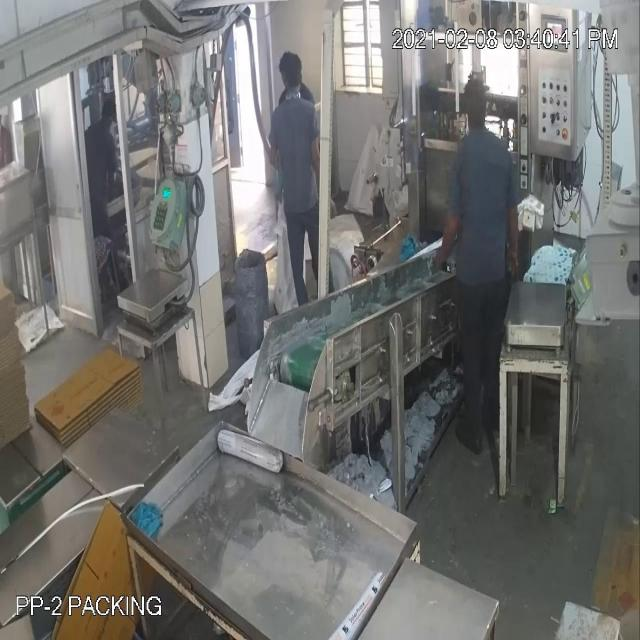No_Gloves: (26, 78, 507, 240)
